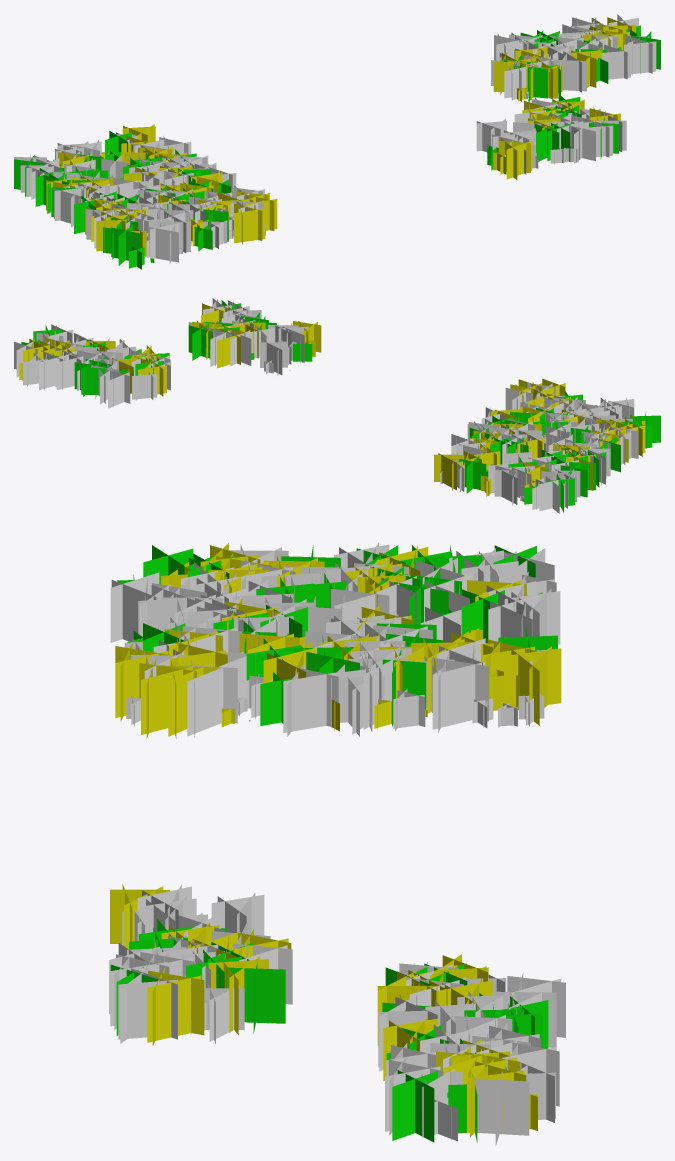
Rendered from Glass_Ruin.fbx.
The picture shows the model from 3 angles, top to bottom: view 1: azimuth 30°, elevation 25°; view 2: azimuth 150°, elevation 25°; view 3: azimuth 270°, elevation 25°; orthographic projection. The views are drawn at different scales.
Visible parts, largest first — view 1: GrassGenerator1; view 2: GrassGenerator1; view 3: GrassGenerator1.
Boxes of the visible parts, box(x1,y1,x2,y2) form: GrassGenerator1: box(14, 14, 660, 269); GrassGenerator1: box(14, 298, 660, 513); GrassGenerator1: box(109, 543, 565, 1145).
Size of the model in its own units: 1920 by 89.98 by 675.
